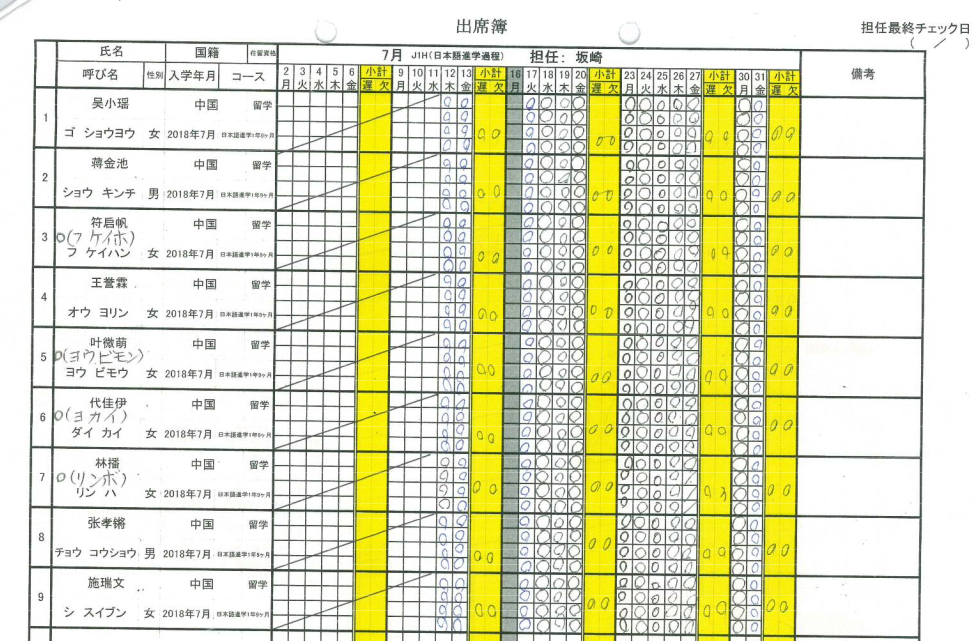/: (682, 486, 697, 502), (682, 502, 697, 517), (683, 470, 697, 486)
